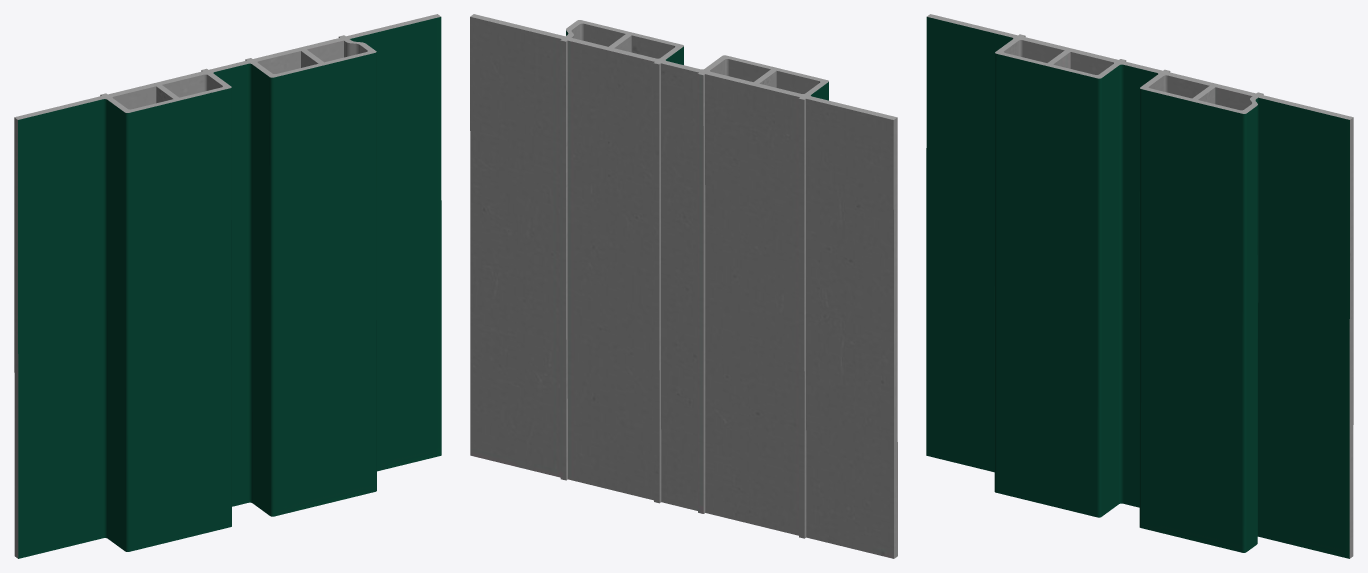
The model's file is ikiliyesil.glb.
3 views of the same model, side by side, from view 1: azimuth 30°, elevation 25°; view 2: azimuth 150°, elevation 25°; view 3: azimuth 330°, elevation 25° (orthographic).
Parts seen in each view (by area): view 1: Plane.008; view 2: Plane.008; view 3: Plane.008.
Part boxes in pixels (x1,y1,x2,y2): Plane.008: (14,14,441,558); Plane.008: (470,14,897,558); Plane.008: (926,14,1353,558).
Bounding box in the file's own units: 8.1 × 8.03 × 0.8706.
Materials: 2 (2 with a texture image).
